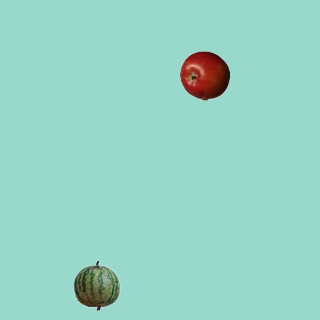Apple Braeburn: (179, 50, 229, 100)
Watermelon: (71, 260, 121, 310)
